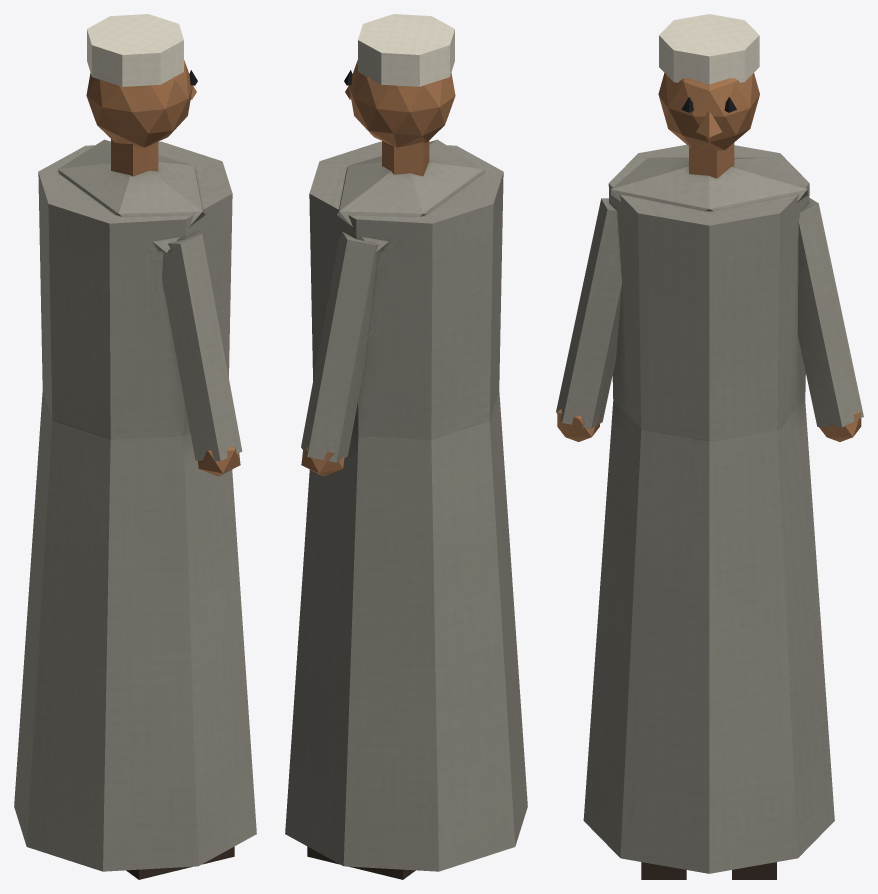
The model's file is man_galabeya_tex.glb.
3 views of the same model, side by side, from view 1: azimuth 30°, elevation 25°; view 2: azimuth 150°, elevation 25°; view 3: azimuth 270°, elevation 25° (orthographic).
Visible parts, largest first — view 1: man_galabeya; view 2: man_galabeya; view 3: man_galabeya.
Boxes of the visible parts, x1,y1,x2,y2 form: man_galabeya: (14,14,256,879); man_galabeya: (285,14,527,879); man_galabeya: (556,14,863,879).
Size of the model in its own units: 0.5 by 1.78 by 0.6128.
Materials: 5 (4 with a texture image).
